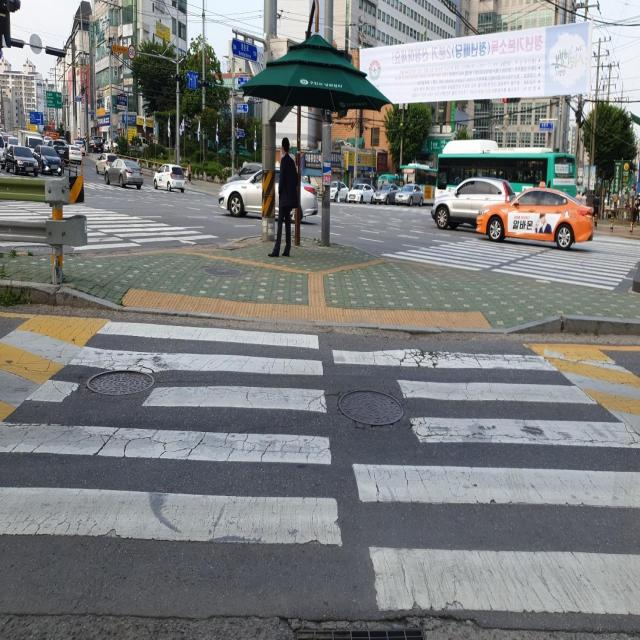횡단보도: (0, 313, 640, 621), (375, 216, 640, 298), (0, 183, 215, 257)
